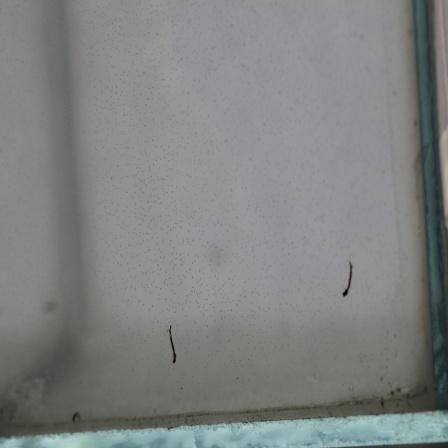Jentik-Nyamuk: (166, 320, 181, 369), (341, 258, 357, 297)
